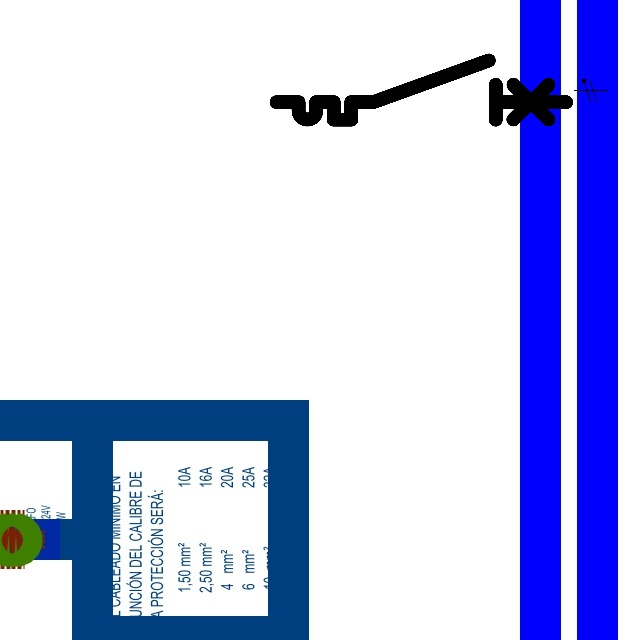interruptor_termomagnetico: (269, 53, 573, 127)
